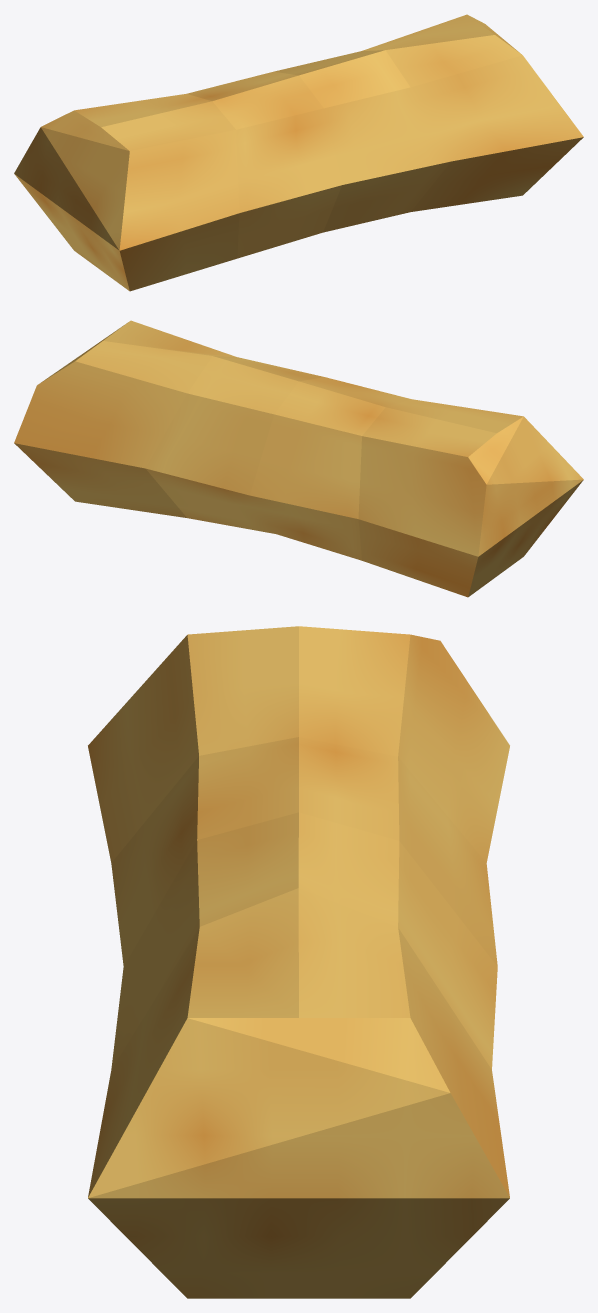
Rendered from spring_roll.fbx.
3 renders of one model, top to bottom at view 1: azimuth 30°, elevation 25°; view 2: azimuth 150°, elevation 25°; view 3: azimuth 270°, elevation 25°, orthographic. The views are drawn at different scales.
Parts seen in each view (by area): view 1: Cylinder; view 2: Cylinder; view 3: Cylinder.
Part boxes in pixels (x1,y1,x2,y2): Cylinder: [14, 14, 583, 291]; Cylinder: [14, 320, 583, 597]; Cylinder: [88, 626, 509, 1298].
Size of the model in its own units: 0.1091 by 0.0341 by 0.043.
Materials: 1 (1 with a texture image).
